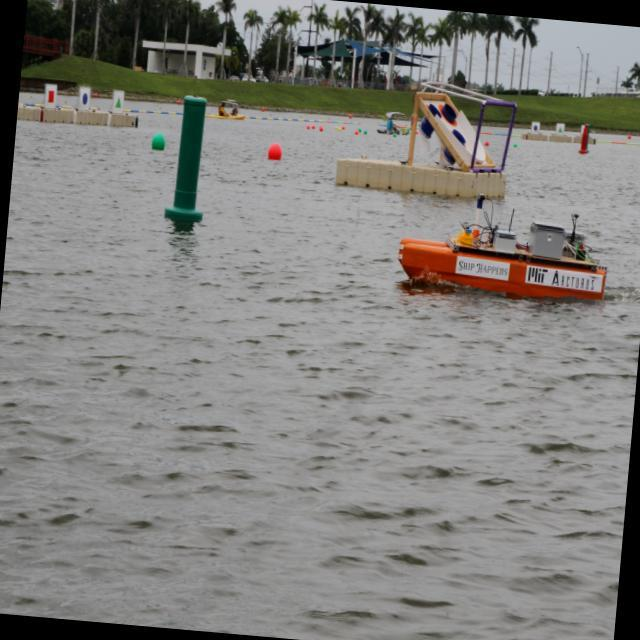buoy: (148, 129, 168, 158), (264, 142, 284, 164)
